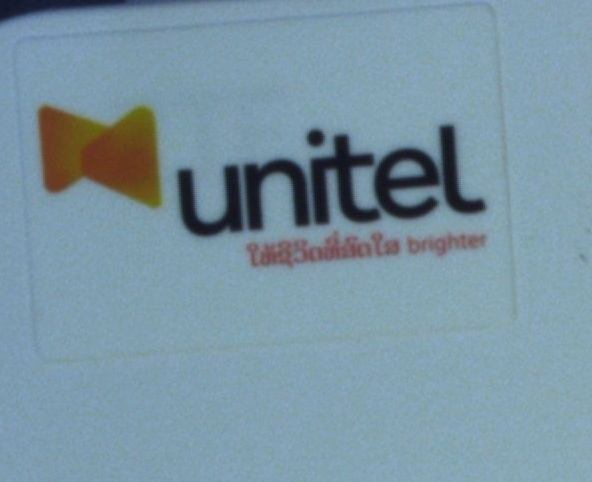BT_unitel: (35, 103, 493, 266)
